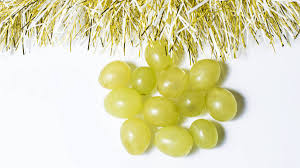Green grapes: (80, 41, 249, 157)
